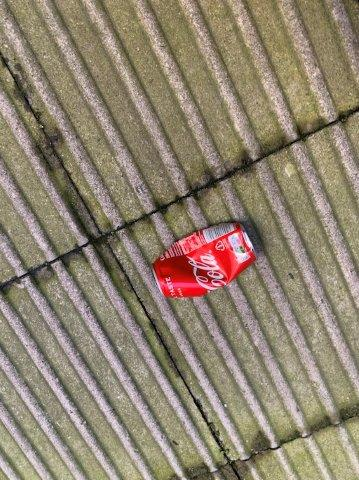kaleng: (154, 224, 257, 298)
